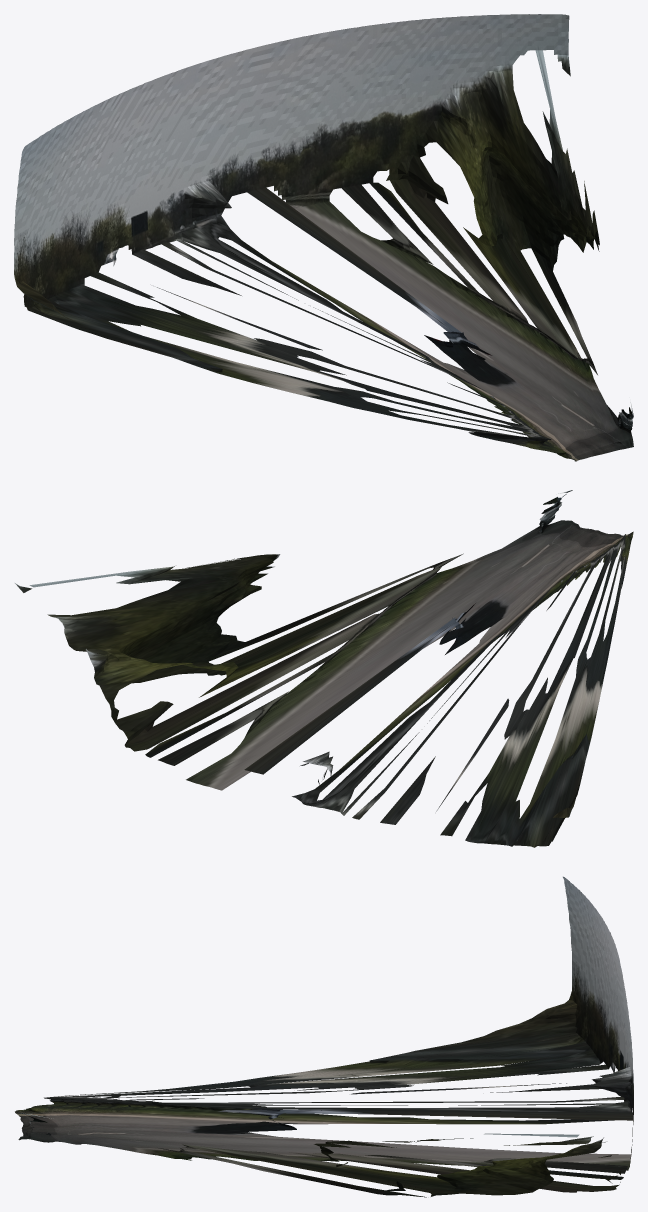
3 views of the same model, one above another, from view 1: azimuth 30°, elevation 25°; view 2: azimuth 150°, elevation 25°; view 3: azimuth 270°, elevation 25° (orthographic). The views are drawn at different scales.
Visible parts, largest first — view 1: defaultobject; view 2: defaultobject; view 3: defaultobject.
Boxes of the visible parts, x1,y1,x2,y2 form: defaultobject: (14, 14, 633, 461); defaultobject: (15, 490, 633, 847); defaultobject: (15, 876, 633, 1197).
Bounding box in the file's own units: 41 × 13.37 × 44.92.
1 material, 1 textured.
